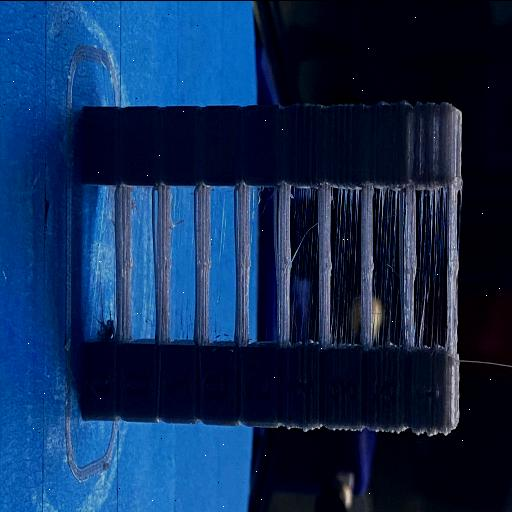stringing: (414, 188, 454, 344), (321, 186, 359, 338), (368, 190, 406, 338), (285, 190, 313, 334)
